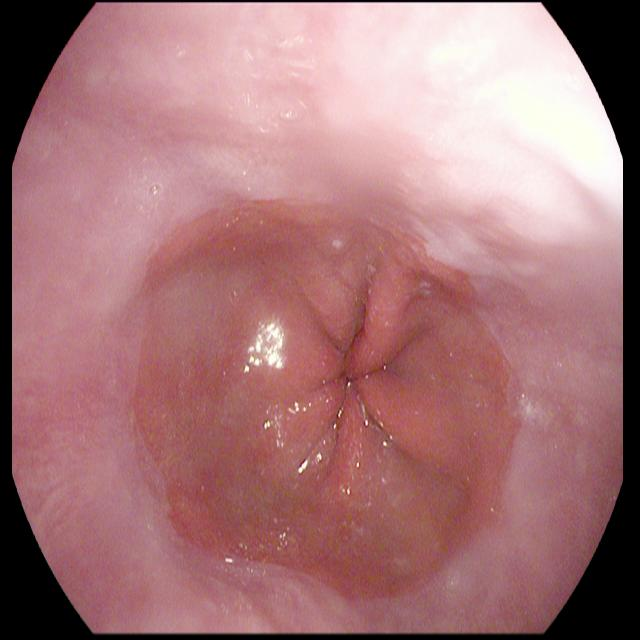Normal-Z-Line: (134, 176, 533, 611)
